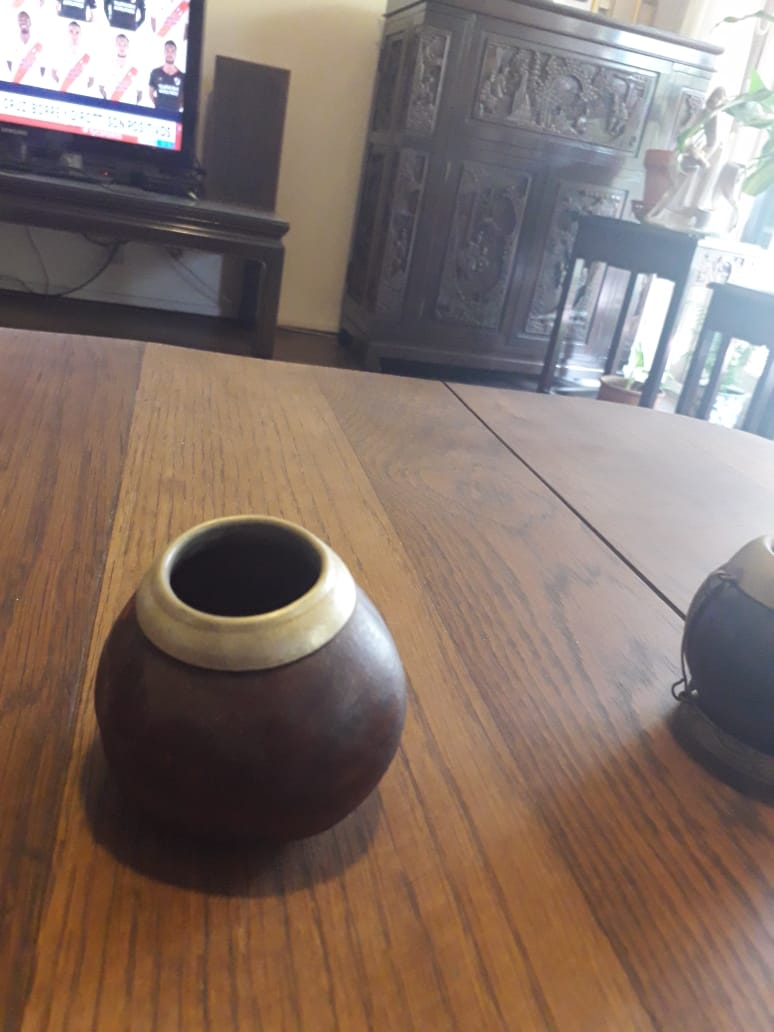calabaza: (85, 507, 411, 859)
mate: (87, 509, 413, 861)
